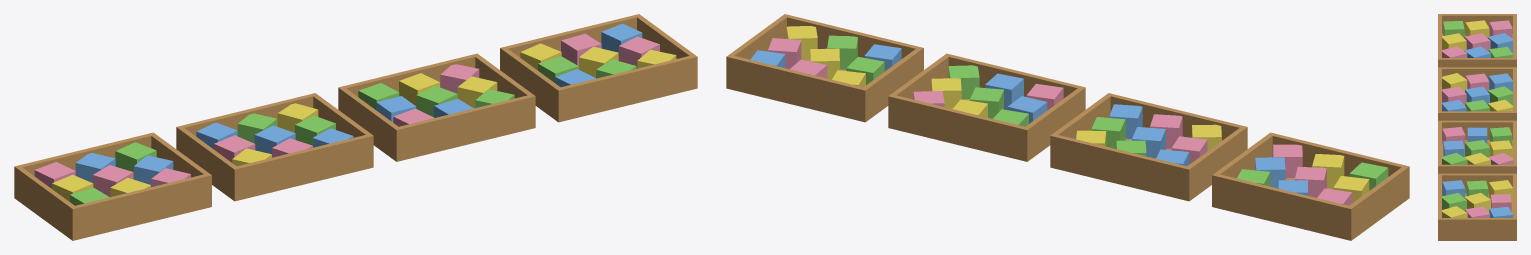
Rendered from market_food_sweets.glb.
3 views of the same model, side by side, from view 1: azimuth 30°, elevation 25°; view 2: azimuth 150°, elevation 25°; view 3: azimuth 270°, elevation 25° (orthographic). The views are drawn at different scales.
Parts seen in each view (by area): view 1: crate_crate_wood, goods_candy_pink (×4), goods_candy_green (×4), goods_candy_yellow (×4), goods_candy_blue (×4); view 2: crate_crate_wood, goods_candy_green (×4), goods_candy_blue (×4), goods_candy_pink (×4), goods_candy_yellow (×4); view 3: crate_crate_wood, goods_candy_yellow (×4), goods_candy_green (×4), goods_candy_pink (×4), goods_candy_blue (×4).
Boxes of the visible parts, <box> form: crate_crate_wood: <box>14,14,697,240</box>; goods_candy_pink (×4): <box>34,33,659,196</box>; goods_candy_green (×4): <box>70,56,636,205</box>; goods_candy_yellow (×4): <box>52,43,676,201</box>; goods_candy_blue (×4): <box>75,23,642,186</box>; crate_crate_wood: <box>726,14,1409,240</box>; goods_candy_green (×4): <box>827,35,1388,190</box>; goods_candy_blue (×4): <box>750,44,1307,195</box>; goods_candy_pink (×4): <box>768,38,1352,205</box>; goods_candy_yellow (×4): <box>786,26,1369,202</box>; crate_crate_wood: <box>1438,14,1516,240</box>; goods_candy_yellow (×4): <box>1442,20,1512,217</box>; goods_candy_green (×4): <box>1442,21,1512,210</box>; goods_candy_pink (×4): <box>1442,20,1512,217</box>; goods_candy_blue (×4): <box>1442,33,1512,217</box>.
Size of the model in its own units: 2.47 by 0.12 by 0.4.
